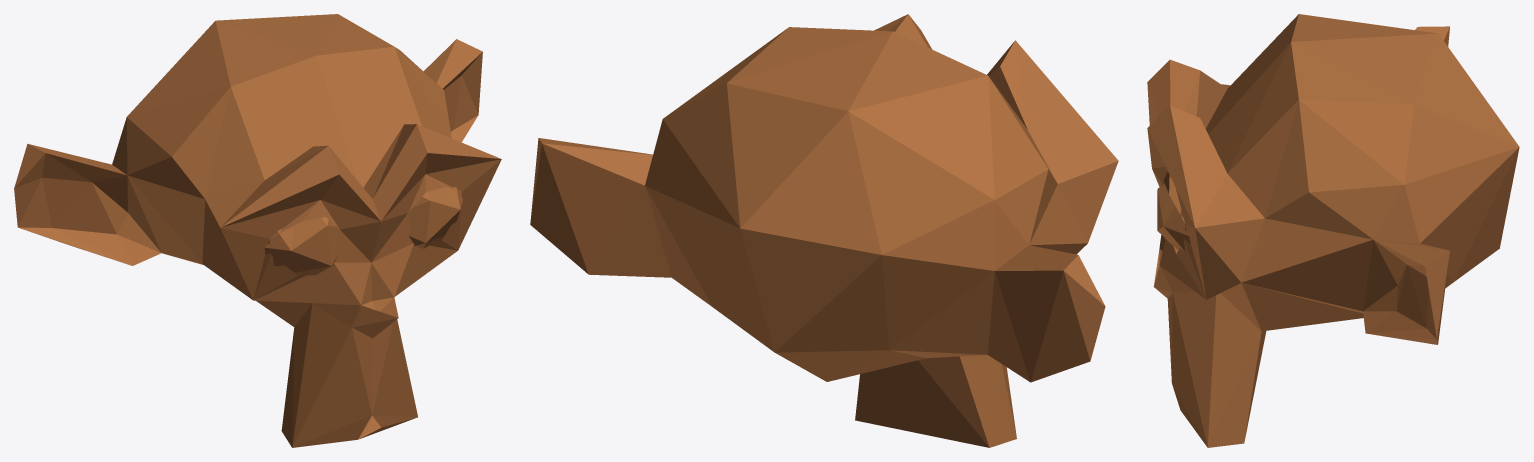
File: monkey.obj
3 views of the same model, side by side, from view 1: azimuth 30°, elevation 25°; view 2: azimuth 150°, elevation 25°; view 3: azimuth 270°, elevation 25° (orthographic). The views are drawn at different scales.
Visible parts, largest first — view 1: Suzanne; view 2: Suzanne; view 3: Suzanne.
Boxes of the visible parts, bbox=[...] form: Suzanne: bbox=[14, 14, 501, 447]; Suzanne: bbox=[530, 14, 1118, 447]; Suzanne: bbox=[1147, 14, 1519, 447].
Bounding box in the file's own units: 2.68 × 1.91 × 1.72.
